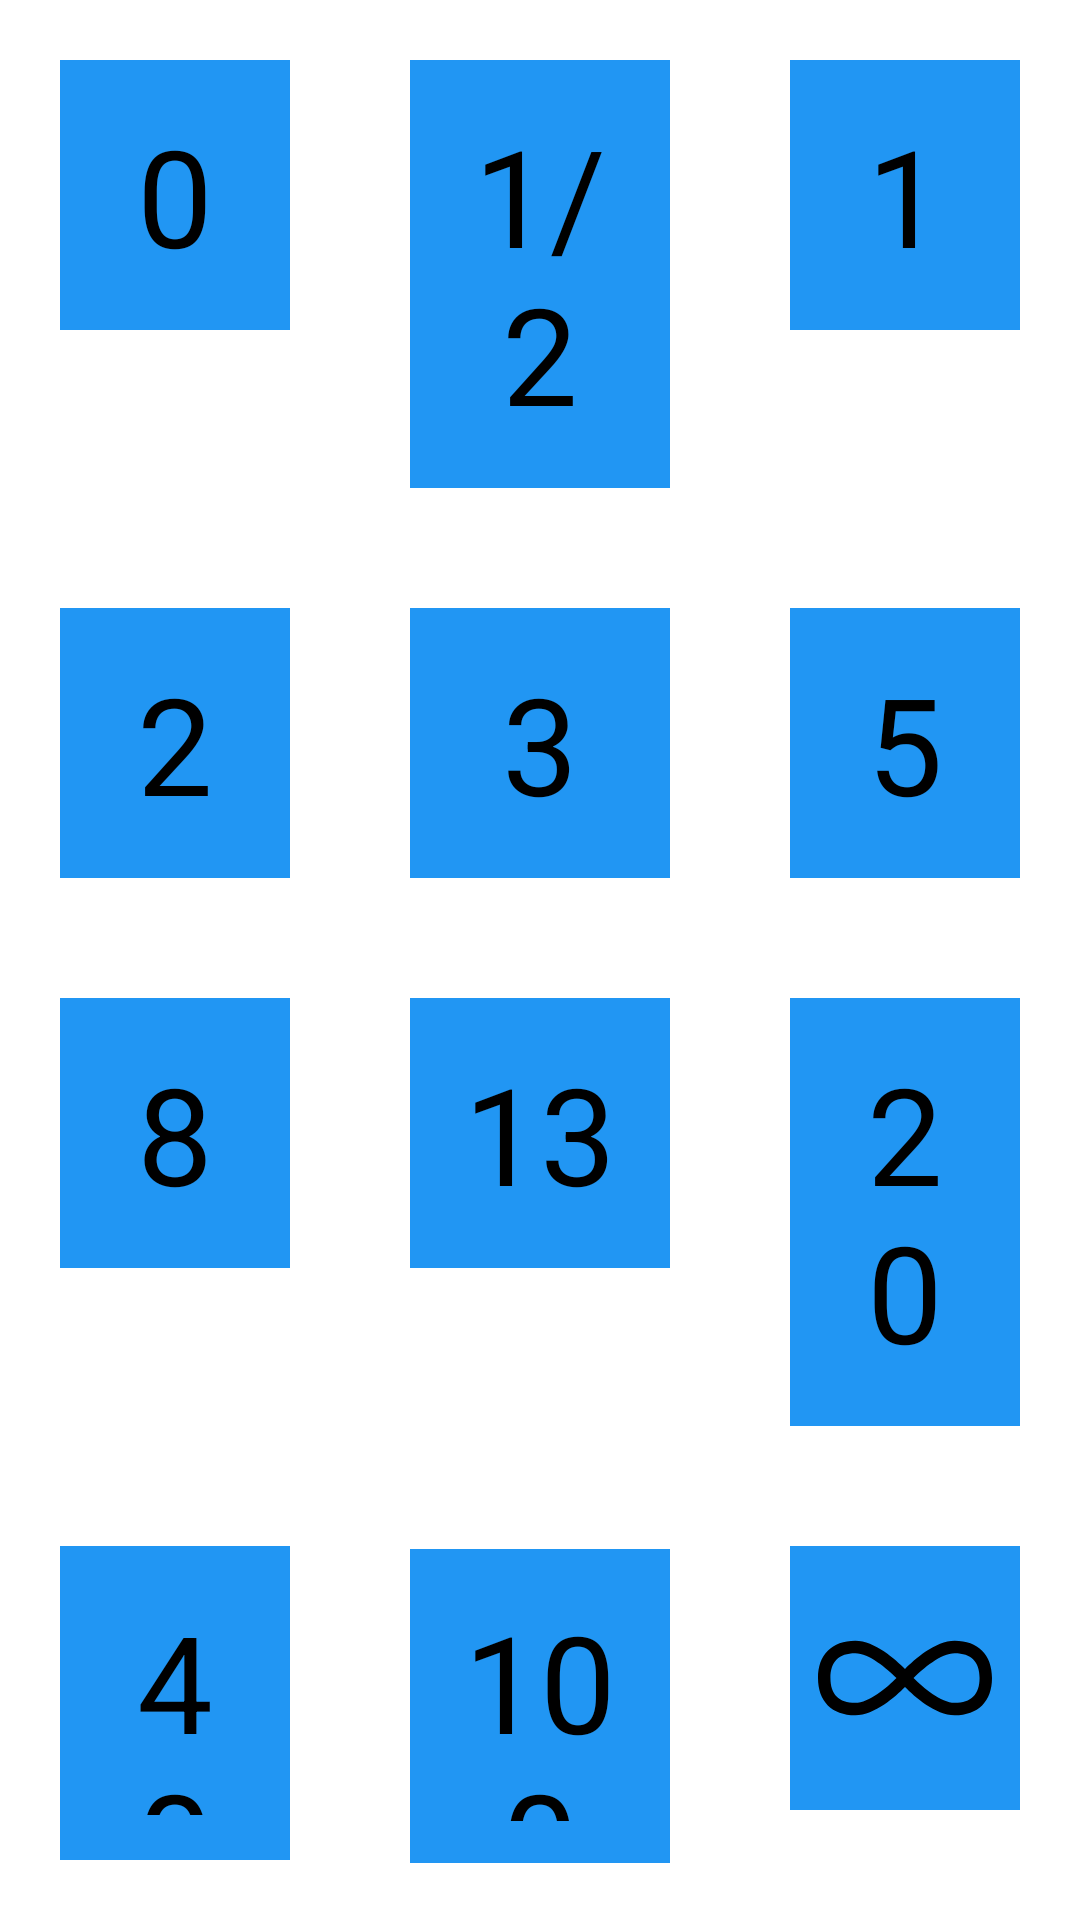

Where icons sit on this 1080 × 1920 app screen, as bbox=[x1, y1, x2, y2]:
infinity: bbox=[790, 1546, 1020, 1810]
